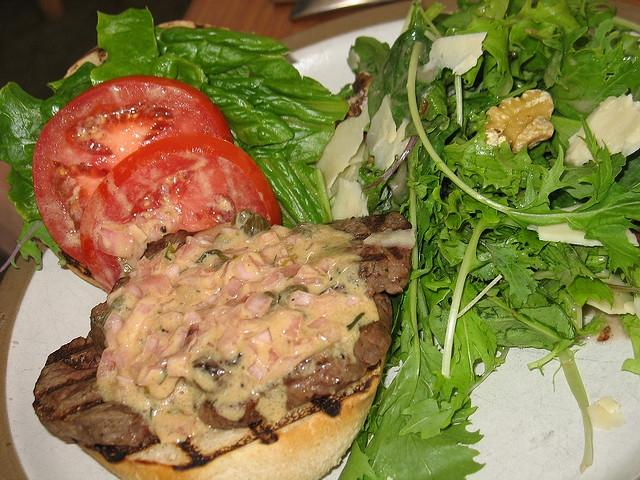lettuce: (90, 5, 355, 230), (406, 41, 640, 281), (364, 154, 486, 480), (0, 62, 98, 222), (533, 26, 640, 122), (430, 308, 500, 430), (443, 131, 543, 208), (475, 286, 577, 352), (367, 27, 423, 124), (338, 373, 388, 480), (540, 241, 614, 311), (450, 19, 513, 98), (478, 238, 547, 304), (508, 20, 568, 90), (560, 152, 626, 199), (432, 185, 500, 230), (398, 393, 458, 440), (346, 36, 390, 78), (442, 6, 508, 30), (617, 312, 640, 366), (612, 32, 640, 58)
onion: (363, 226, 417, 250), (98, 228, 134, 258), (249, 348, 280, 380), (276, 305, 303, 339), (240, 293, 274, 319), (216, 324, 244, 353), (293, 264, 324, 285), (140, 275, 172, 295), (143, 331, 167, 352), (290, 290, 318, 306), (222, 276, 244, 296), (146, 356, 174, 370), (260, 230, 282, 247), (104, 312, 122, 330), (254, 327, 272, 344), (178, 244, 194, 262), (135, 262, 151, 280), (185, 310, 200, 328), (125, 284, 144, 298), (307, 316, 328, 328), (262, 272, 280, 286), (237, 262, 250, 281), (268, 272, 284, 286), (166, 265, 181, 278), (112, 320, 125, 334), (346, 296, 362, 307), (100, 360, 115, 370), (150, 230, 158, 243), (222, 227, 237, 233), (199, 240, 209, 244)
tomato: (32, 74, 236, 265), (81, 133, 280, 290)
